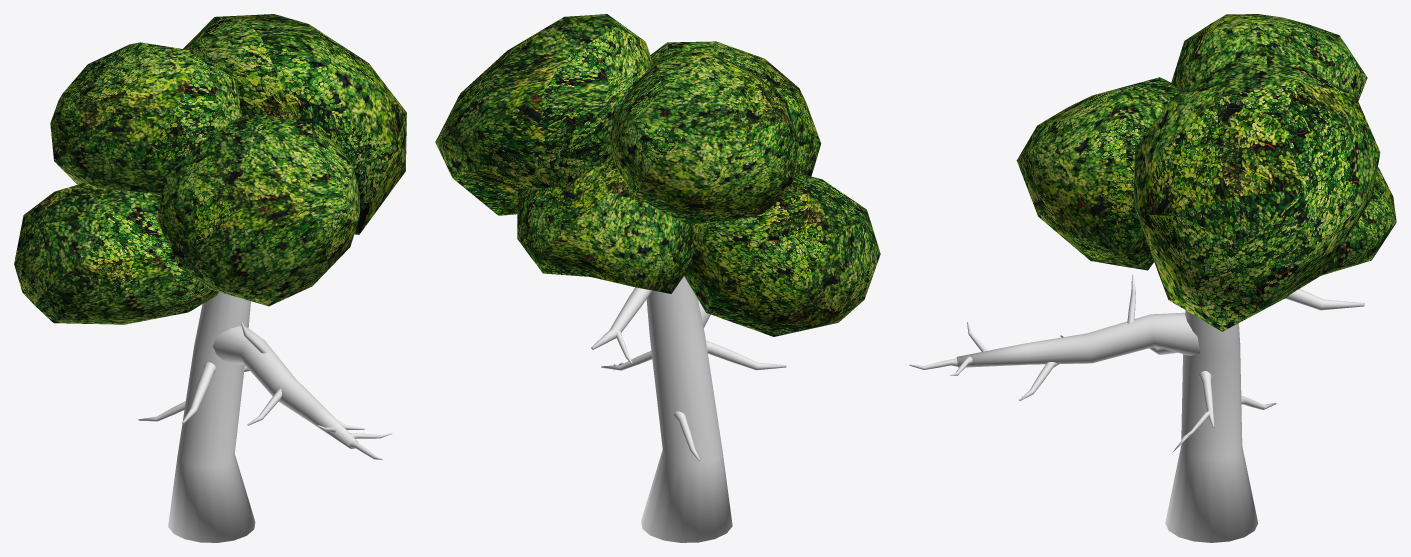
Rendered from uzunkolluagac.fbx.
3 renders of one model, left to right at view 1: azimuth 30°, elevation 25°; view 2: azimuth 150°, elevation 25°; view 3: azimuth 270°, elevation 25°, orthographic. The views are drawn at different scales.
Visible parts, largest first — view 1: kolluagac; view 2: kolluagac; view 3: kolluagac.
Boxes of the visible parts, x1=… form: kolluagac: x1=14, y1=14, x2=406, y2=542; kolluagac: x1=435, y1=14, x2=880, y2=542; kolluagac: x1=909, y1=14, x2=1396, y2=542.
Bounding box in the file's own units: 1079 × 1267 × 1138.
